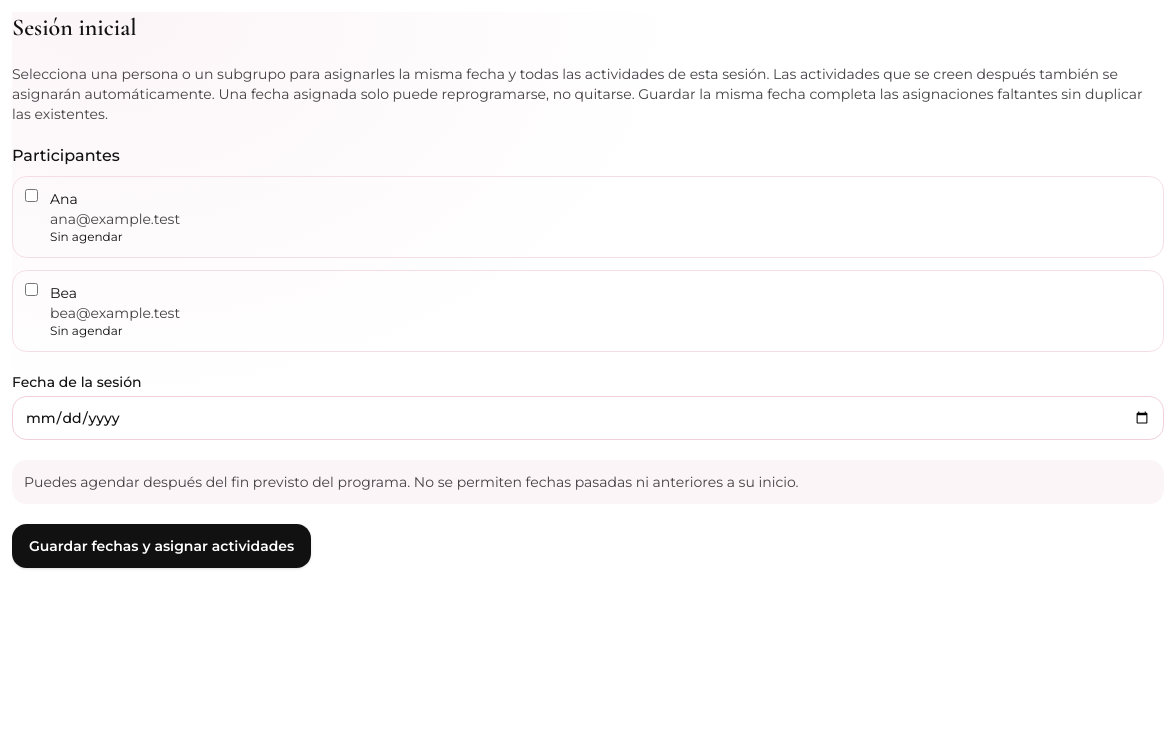
still blocks future dates before the program start
Click the checkbox labelled "Ana ana@example.test Sin agendar" at x=32, y=196, box [25, 189, 38, 202]
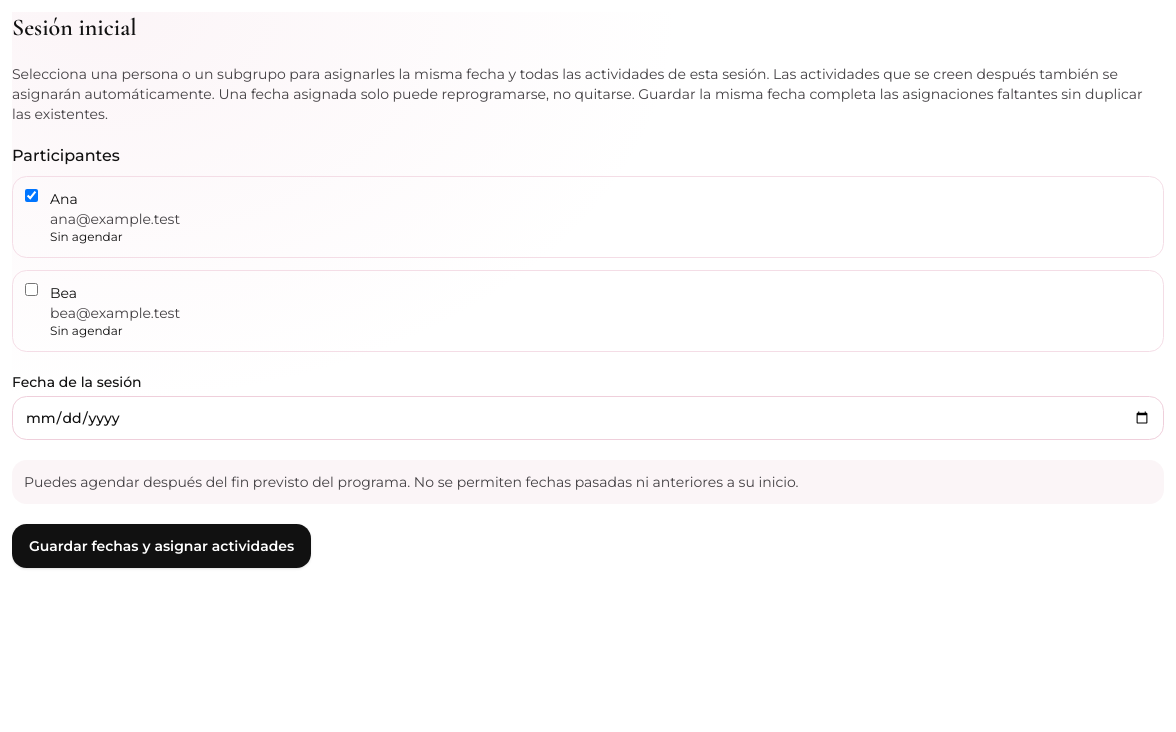
Type "2026-10-30" into the date field labelled "Fecha de la sesión" at x=588, y=418, box [12, 396, 1164, 440]
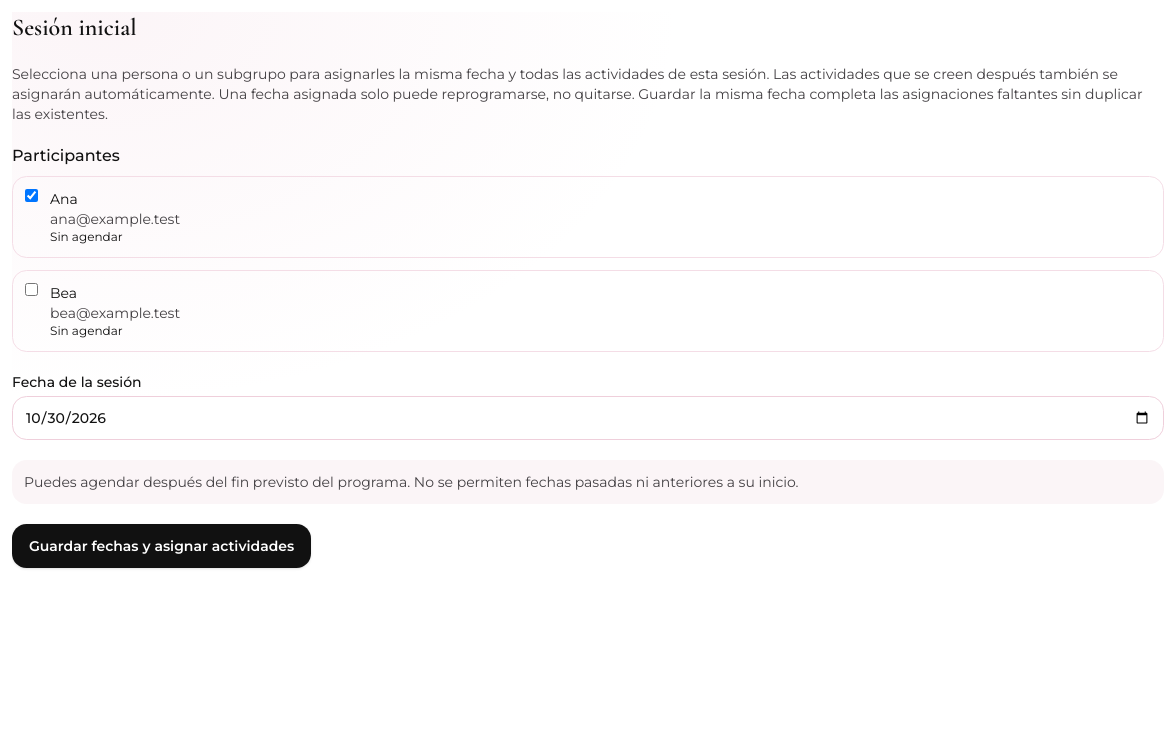
Submit the form
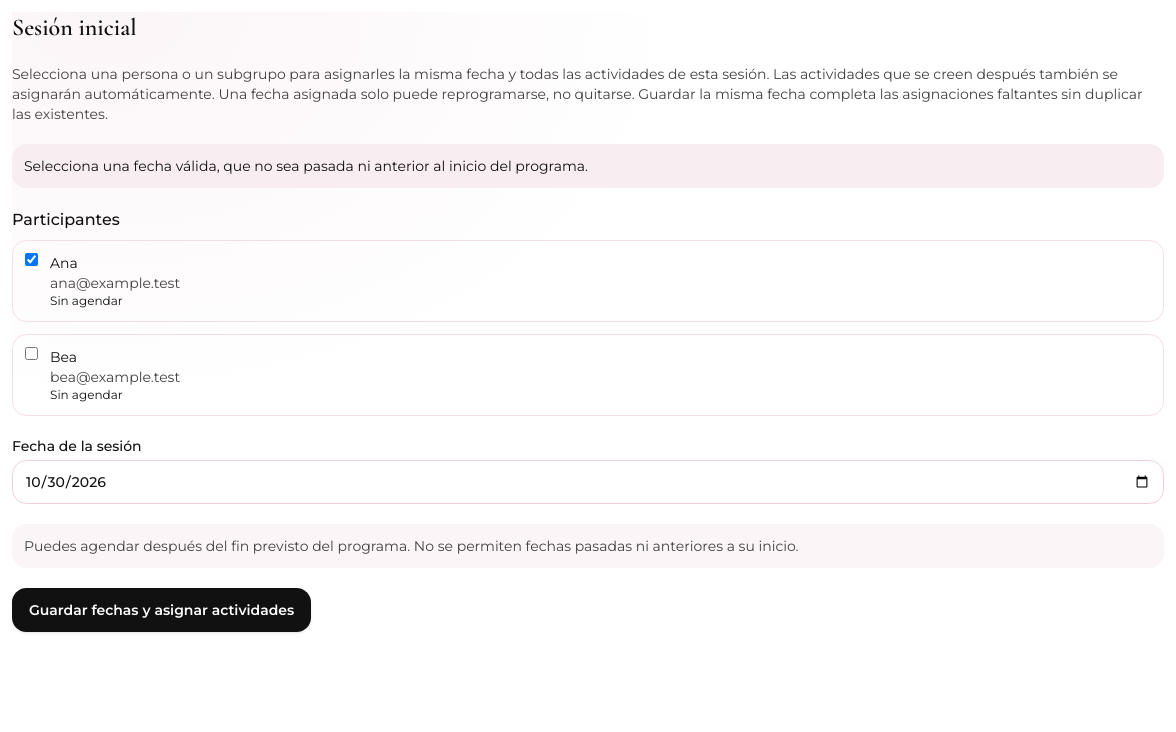
Check: the text "Selecciona una fecha válida, que no sea pasada ni anterior al inicio del programa." is shown, box [24, 157, 588, 175]
